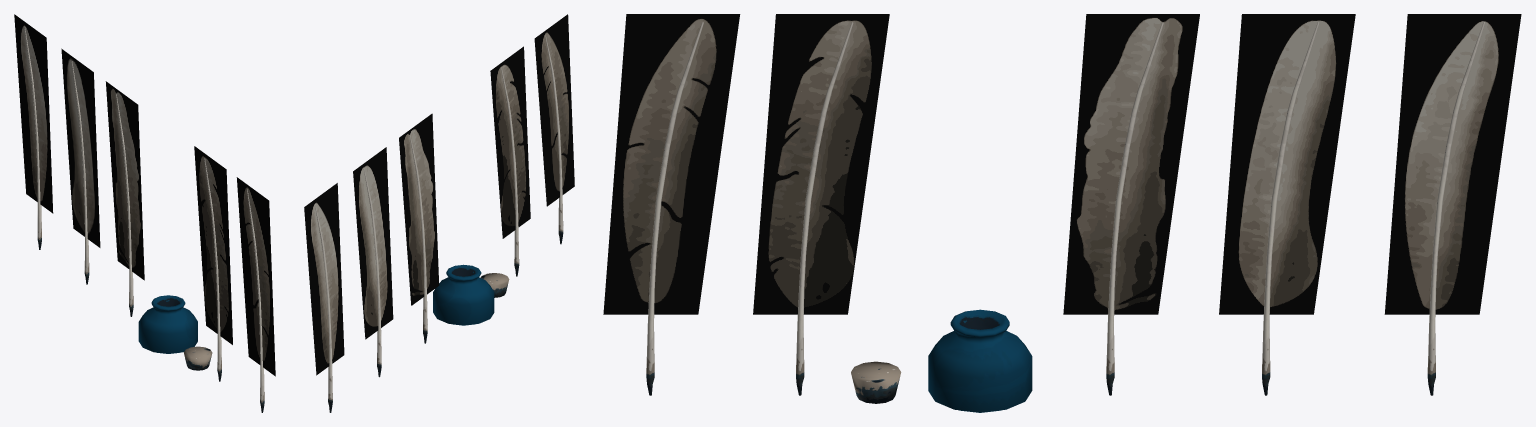
The picture shows the model from 3 angles, left to right: view 1: azimuth 30°, elevation 25°; view 2: azimuth 150°, elevation 25°; view 3: azimuth 270°, elevation 25°; orthographic projection. The views are drawn at different scales.
Parts seen in each view (by area): view 1: LP_Quill_Feather3, LP_Quill_Feather, LP_Quill_Feather4, LP_Quill_Feather1, LP_Quill_Feather2, LP_InkWell, LP_Quill_Spine2, LP_Quill_Spine3, LP_Quill_Spine1, LP_Quill_Spine4, LP_Quill_Spine, LP_Cork; view 2: LP_Quill_Feather3, LP_Quill_Feather4, LP_Quill_Feather2, LP_Quill_Feather, LP_Quill_Feather1, LP_InkWell, LP_Quill_Spine3, LP_Quill_Spine4, LP_Quill_Spine2, LP_Quill_Spine1, LP_Quill_Spine, LP_Cork; view 3: LP_Quill_Feather4, LP_Quill_Feather, LP_Quill_Feather2, LP_Quill_Feather3, LP_Quill_Feather1, LP_InkWell, LP_Quill_Spine, LP_Quill_Spine4, LP_Quill_Spine2, LP_Quill_Spine3, LP_Quill_Spine1, LP_Cork.
Part boxes in pixels (x1,y1,x2,y2): LP_Quill_Feather3: (194, 146, 232, 344); LP_Quill_Feather: (105, 81, 144, 280); LP_Quill_Feather4: (236, 177, 275, 376); LP_Quill_Feather1: (61, 48, 100, 247); LP_Quill_Feather2: (14, 14, 53, 213); LP_InkWell: (138, 295, 197, 353); LP_Quill_Spine2: (24, 26, 41, 249); LP_Quill_Spine3: (204, 158, 221, 381); LP_Quill_Spine1: (71, 61, 89, 284); LP_Quill_Spine4: (247, 189, 264, 412); LP_Quill_Spine: (116, 93, 133, 316); LP_Cork: (183, 346, 212, 370); LP_Quill_Feather3: (490, 46, 530, 238); LP_Quill_Feather4: (534, 14, 574, 206); LP_Quill_Feather2: (304, 183, 344, 375); LP_Quill_Feather: (399, 113, 439, 305); LP_Quill_Feather1: (353, 147, 393, 339); LP_InkWell: (433, 264, 494, 325); LP_Quill_Spine3: (501, 68, 519, 276); LP_Quill_Spine4: (545, 35, 563, 244); LP_Quill_Spine2: (315, 204, 332, 412); LP_Quill_Spine1: (363, 168, 381, 377); LP_Quill_Spine: (409, 135, 427, 343); LP_Cork: (480, 273, 509, 297); LP_Quill_Feather4: (603, 14, 740, 314); LP_Quill_Feather: (1063, 14, 1199, 314); LP_Quill_Feather2: (1384, 14, 1521, 314); LP_Quill_Feather3: (753, 14, 889, 314); LP_Quill_Feather1: (1219, 14, 1355, 314); LP_InkWell: (928, 309, 1032, 412); LP_Quill_Spine: (1106, 22, 1163, 395); LP_Quill_Spine4: (646, 22, 703, 395); LP_Quill_Spine2: (1427, 22, 1484, 395); LP_Quill_Spine3: (796, 22, 853, 395); LP_Quill_Spine1: (1262, 22, 1319, 395); LP_Cork: (851, 361, 901, 403).
Size of the model in its own units: 0.4946 by 2 by 4.36.
2 materials, 2 textured.
